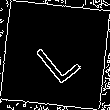L_NW: (27, 25, 83, 85)
